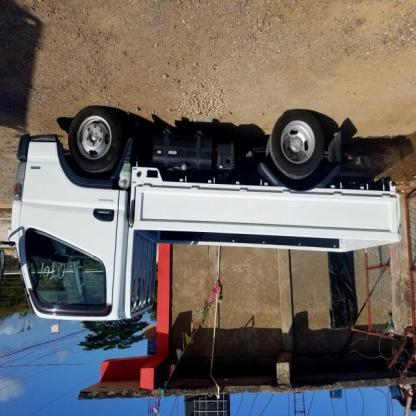truck: (11, 111, 402, 323)
